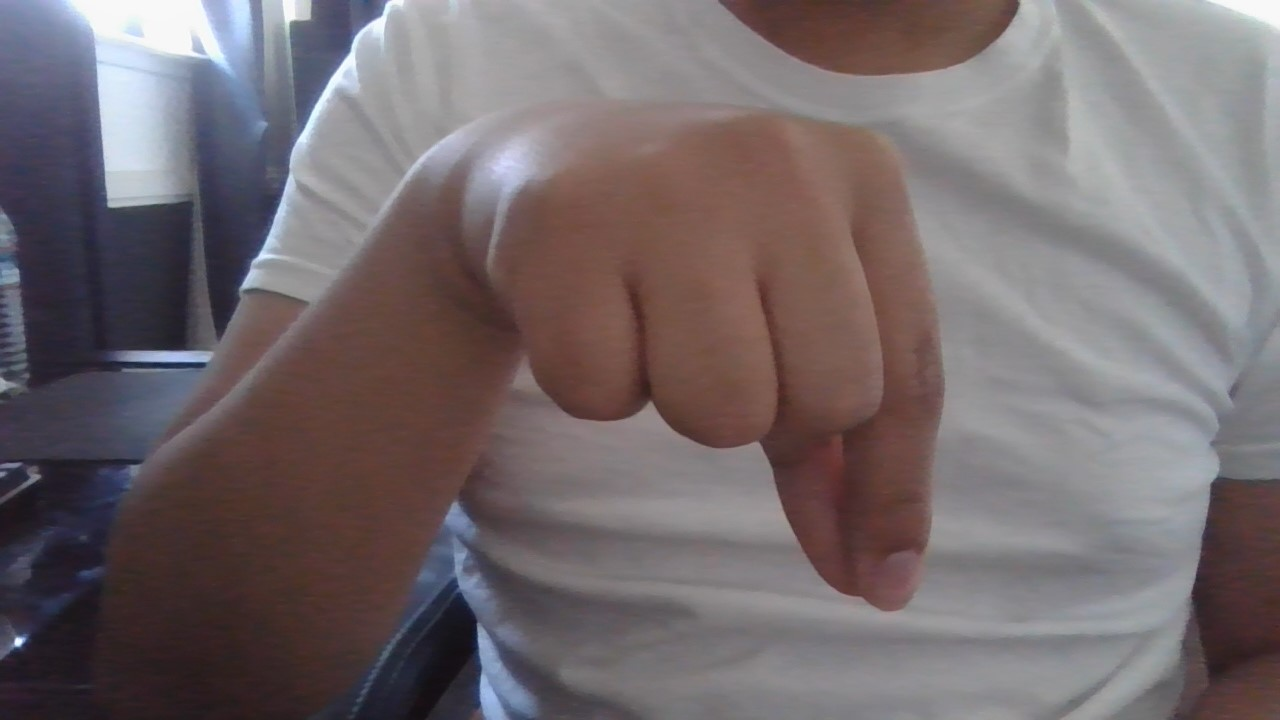q: (404, 77, 1048, 626)
